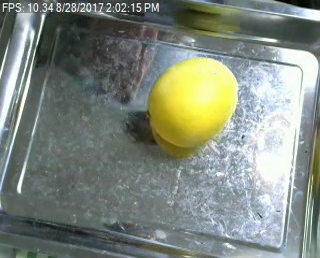Mango: (142, 56, 240, 147)
